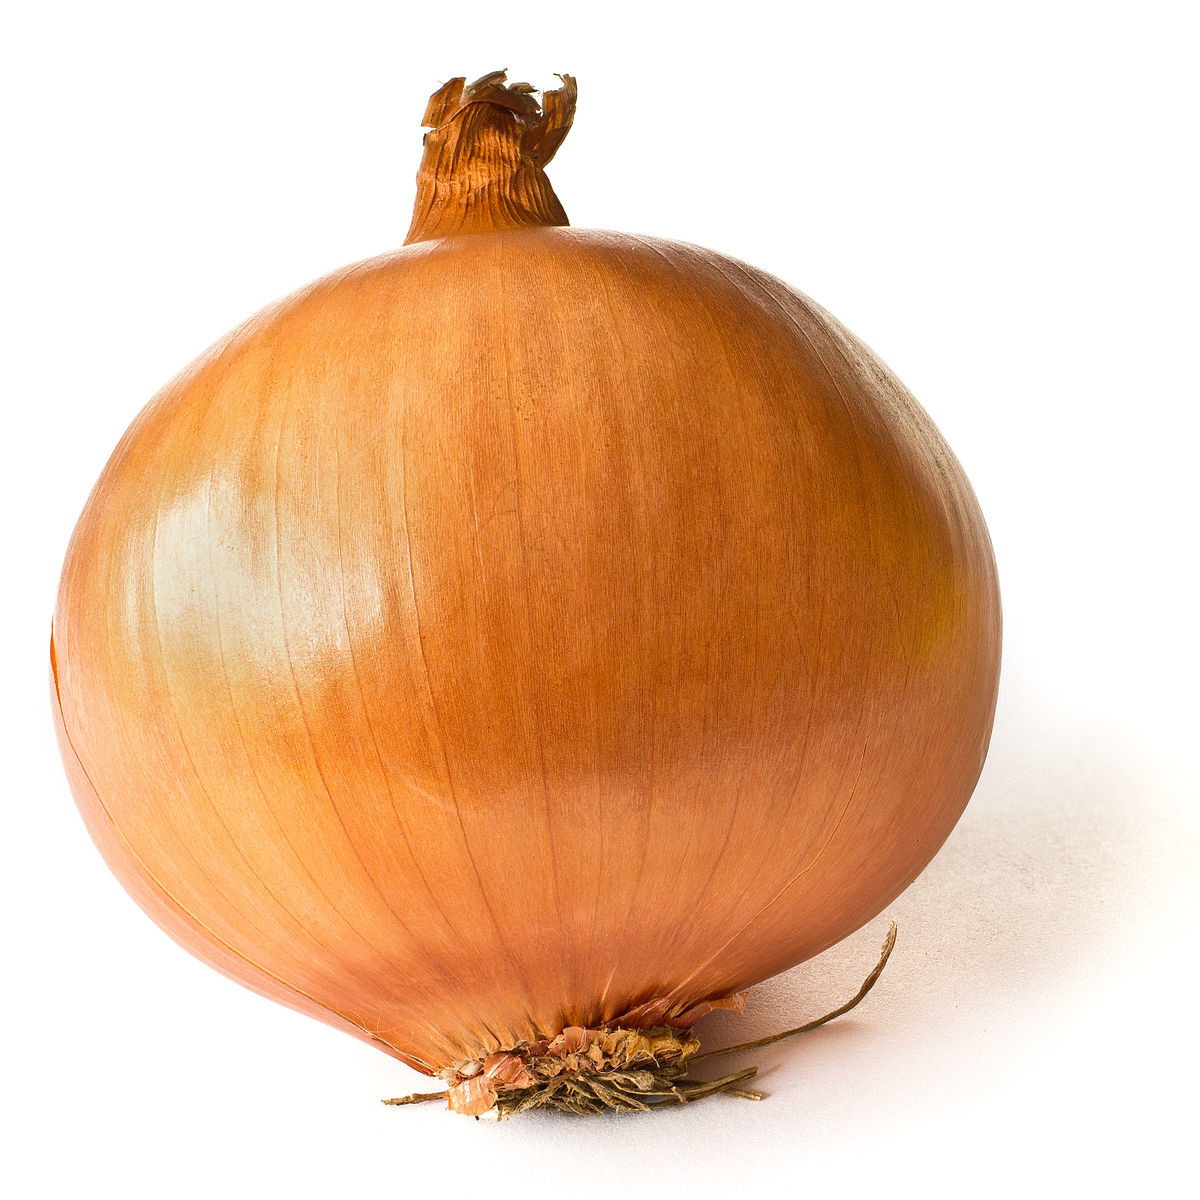onion: (43, 65, 1010, 1121)
